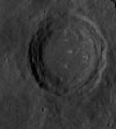crater: (13, 3, 113, 114)
